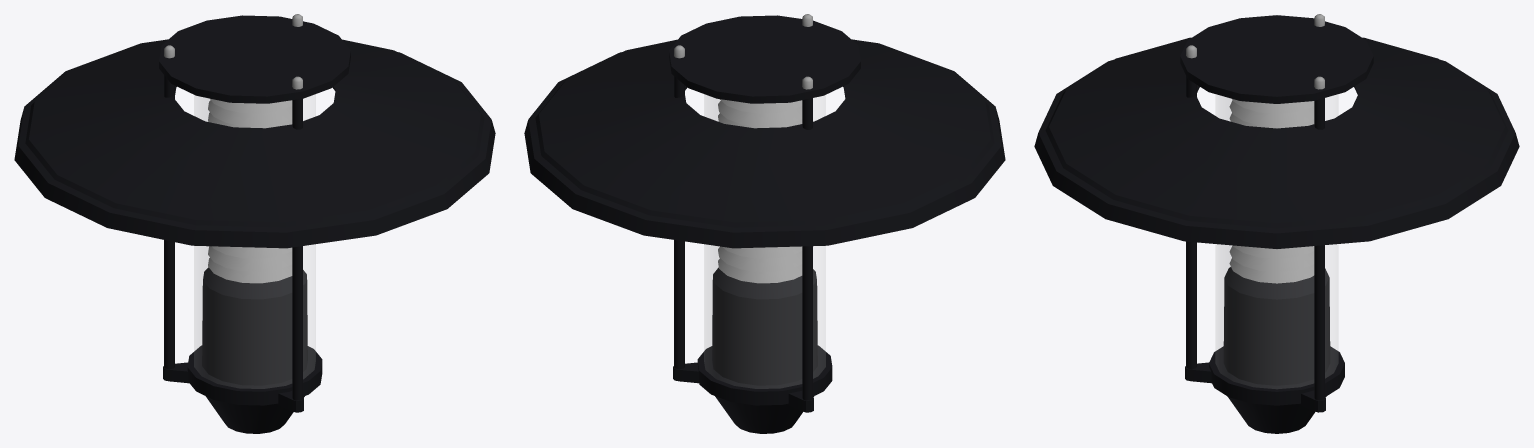
3 views of the same model, side by side, from view 1: azimuth 30°, elevation 25°; view 2: azimuth 150°, elevation 25°; view 3: azimuth 270°, elevation 25° (orthographic).
Parts seen in each view (by area): view 1: BezierCurve.001, Glas, Cylinder.002, Cylinder.001; view 2: BezierCurve.001, Glas, Cylinder.002, Cylinder.001; view 3: BezierCurve.001, Glas, Cylinder.002, Cylinder.001.
Boxes of the visible parts, <box> form: BezierCurve.001: <box>14,15,495,433</box>; Glas: <box>194,94,315,388</box>; Cylinder.002: <box>164,14,302,400</box>; Cylinder.001: <box>163,362,303,412</box>; BezierCurve.001: <box>524,15,1005,433</box>; Glas: <box>704,94,825,388</box>; Cylinder.002: <box>674,14,812,400</box>; Cylinder.001: <box>673,362,813,412</box>; BezierCurve.001: <box>1034,15,1519,433</box>; Glas: <box>1216,95,1337,388</box>; Cylinder.002: <box>1186,14,1324,400</box>; Cylinder.001: <box>1185,362,1325,412</box>.
Bounding box in the file's own units: 0.6768 × 0.5764 × 0.6768.
4 materials, 3 textured.
